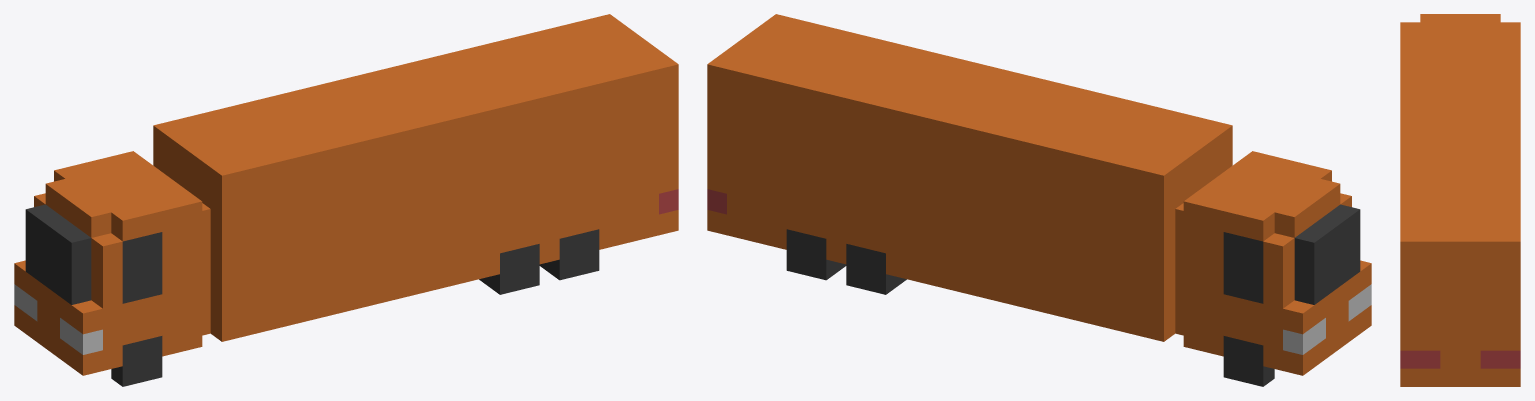
Rendered from truck-v4-orange.gltf.
3 renders of one model, left to right at view 1: azimuth 30°, elevation 25°; view 2: azimuth 150°, elevation 25°; view 3: azimuth 270°, elevation 25°, orthographic. The views are drawn at different scales.
Visible parts, largest first — view 1: model, wheels; view 2: model, wheels; view 3: model.
Boxes of the visible parts, left/top/right/bottom form: model: left=14, top=14, right=678, bottom=375; wheels: left=111, top=229, right=599, bottom=386; model: left=707, top=14, right=1371, bottom=375; wheels: left=786, top=229, right=1274, bottom=386; model: left=1400, top=14, right=1520, bottom=386.
Size of the model in its own units: 3 by 0.9 by 0.6.
Materials: 2 (2 with a texture image).
